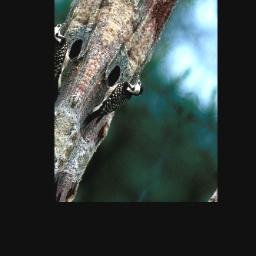Woodpecker: (81, 57, 150, 151)
